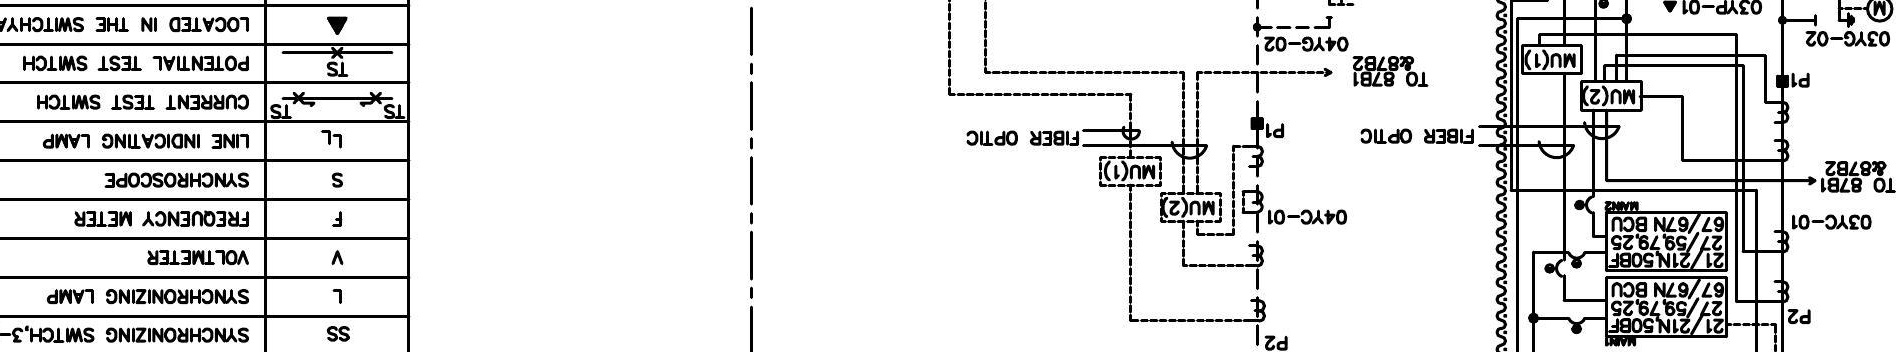MU: (1580, 80, 1643, 112), (1520, 44, 1584, 75)
